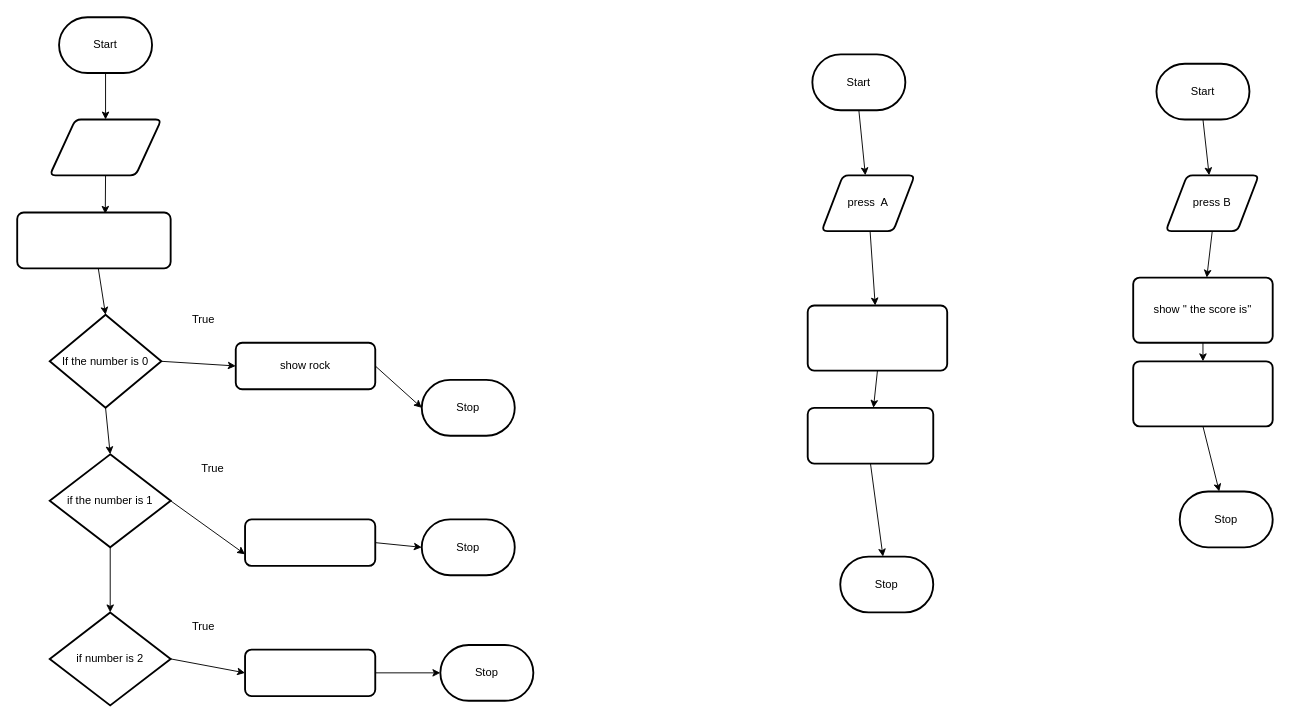
This 1289x722 diagram has some shape labels left out. Here are the shapes that lost their labels. From the top down, the centre of each, then its label:
At (x=105, y=147): "shake microbit".
At (x=93, y=240): "random number (0-2)".
At (x=877, y=337): "show check mark".
At (x=1202, y=393): "show the ( number) score".
At (x=870, y=435): "add 1 to the score".
At (x=310, y=542): "show paper".
At (x=310, y=672): "show scissors".
